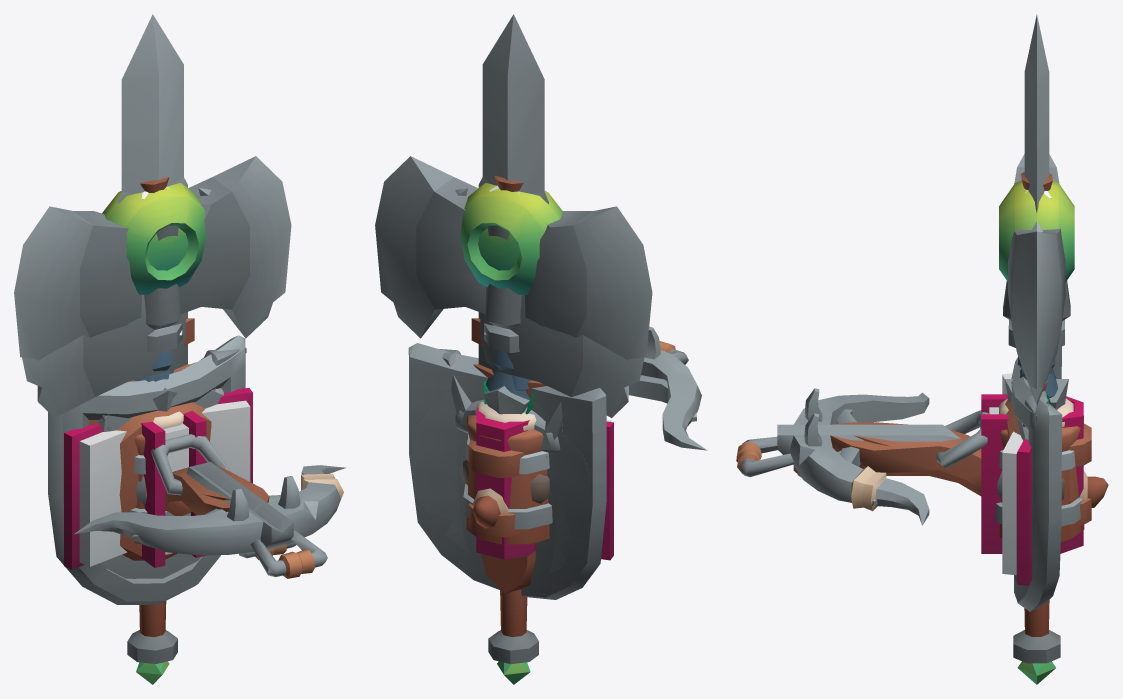
File: weapons.glb
3 renders of one model, left to right at view 1: azimuth 30°, elevation 25°; view 2: azimuth 150°, elevation 25°; view 3: azimuth 270°, elevation 25°, orthographic.
Parts seen in each view (by area): view 1: axe_2handed, crossbow_2handed, shield_badge, staff, spellbook_open, sword_2handed, axe_1handed, shield_round, crossbow_1handed, spellbook_closed, mug_full; view 2: axe_2handed, shield_badge, sword_2handed, staff, shield_round, axe_1handed, mug_full, spellbook_closed, crossbow_2handed, crossbow_1handed, quiver, spellbook_open (+1 smaller); view 3: crossbow_2handed, axe_2handed, shield_badge, staff, crossbow_1handed, spellbook_closed, sword_2handed, spellbook_open, mug_full, shield_round.
Boxes of the visible parts, box(x1,y1,x2,y2) form: axe_2handed: box(14, 156, 291, 381); crossbow_2handed: box(74, 462, 346, 578); shield_badge: box(48, 335, 245, 604); staff: box(102, 183, 211, 684); spellbook_open: box(64, 388, 252, 569); sword_2handed: box(101, 14, 246, 431); axe_1handed: box(22, 294, 185, 417); shield_round: box(62, 388, 223, 578); crossbow_1handed: box(132, 434, 296, 559); spellbook_closed: box(141, 410, 206, 567); mug_full: box(130, 411, 190, 544); axe_2handed: box(375, 156, 652, 404); shield_badge: box(408, 343, 606, 599); sword_2handed: box(439, 14, 565, 447); staff: box(455, 183, 562, 684); shield_round: box(410, 391, 592, 572); axe_1handed: box(480, 294, 644, 417); mug_full: box(462, 401, 552, 544); spellbook_closed: box(468, 407, 535, 559); crossbow_2handed: box(641, 326, 707, 450); crossbow_1handed: box(472, 375, 696, 528); quiver: box(481, 381, 535, 593); spellbook_open: box(466, 420, 613, 560); crossbow_2handed: box(736, 388, 981, 525); axe_2handed: box(1003, 154, 1070, 406); shield_badge: box(1011, 346, 1064, 611); staff: box(999, 180, 1074, 684); crossbow_1handed: box(793, 409, 1108, 507); spellbook_closed: box(981, 394, 1091, 553); sword_2handed: box(1005, 14, 1068, 437); spellbook_open: box(1002, 373, 1031, 585); mug_full: box(995, 398, 1084, 542); shield_round: box(997, 397, 1028, 575).
Bounding box in the file's own units: 1.24 × 2.86 × 1.44.
4 materials, 4 textured.
